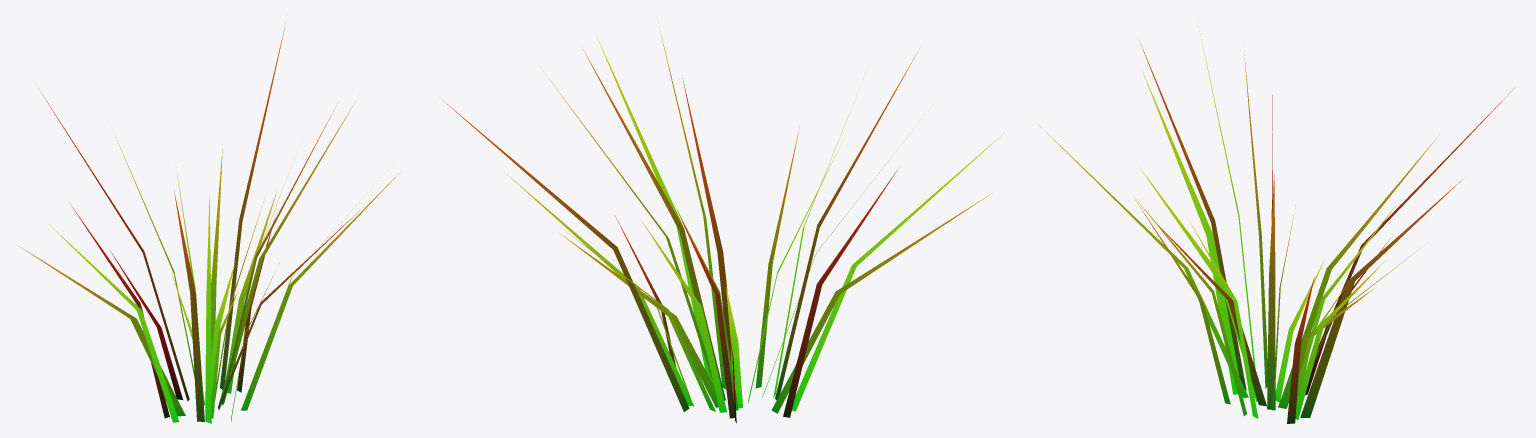
File: SM_GrassTuft.fbx
3 renders of one model, left to right at view 1: azimuth 30°, elevation 25°; view 2: azimuth 150°, elevation 25°; view 3: azimuth 270°, elevation 25°, orthographic. The views are drawn at different scales.
Visible parts, largest first — view 1: SM_GrassTuft; view 2: SM_GrassTuft; view 3: SM_GrassTuft.
Part boxes in pixels (bbox=[...]): SM_GrassTuft: bbox=[19, 21, 400, 423]; SM_GrassTuft: bbox=[442, 25, 1004, 423]; SM_GrassTuft: bbox=[1039, 31, 1515, 423].
Bounding box in the file's own units: 0.5082 × 0.3729 × 0.5183.
